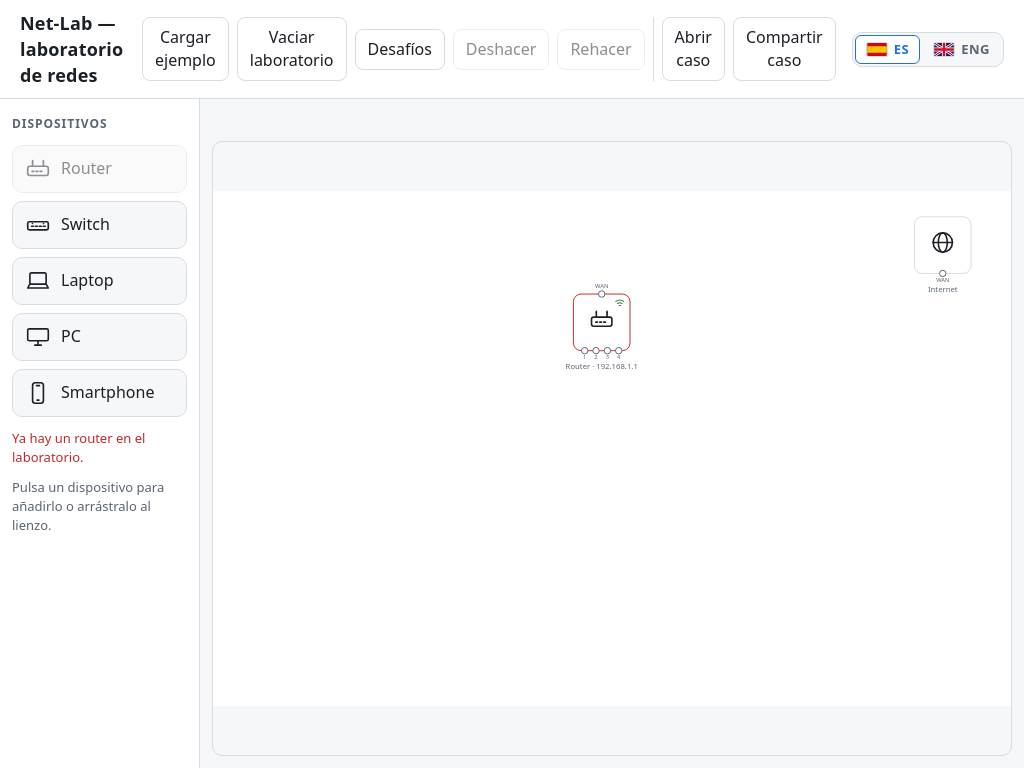
«Desafíos» in the free lab (S67, S70) › starts in the free lab and opens and closes the selector without touching it
Click the button "Desafíos" at coordinates (400, 49), box [354, 28, 445, 70]
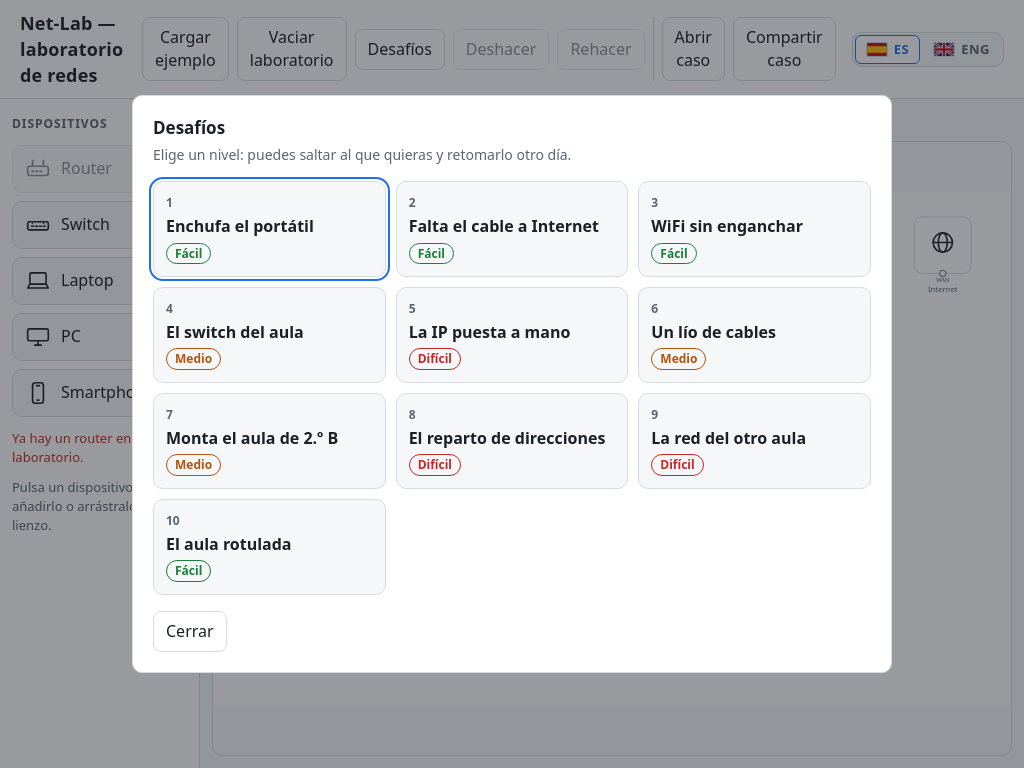
Expected: the dialog is shown, [132, 95, 892, 673]
Click the button "Cerrar" at coordinates (190, 631), box [153, 611, 227, 652]
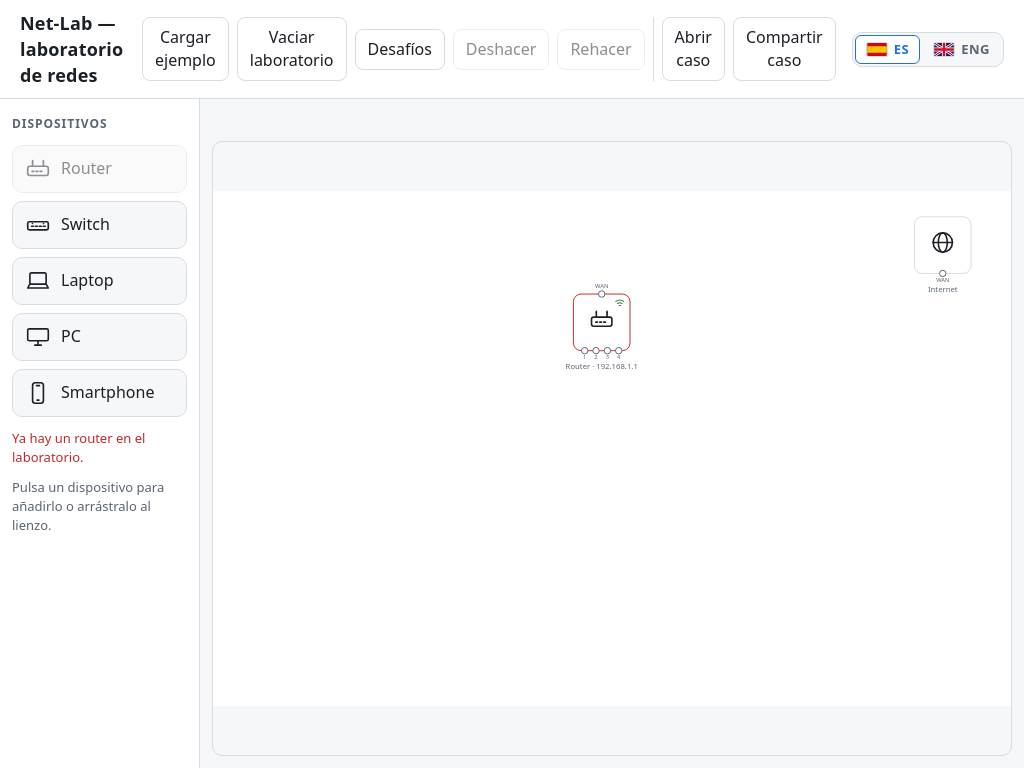
Expected: the dialog is gone
